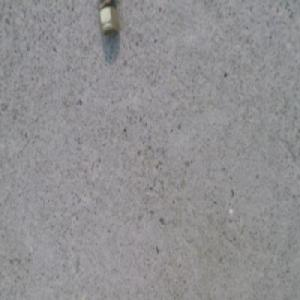BoltNutSet: (99, 0, 119, 38)
